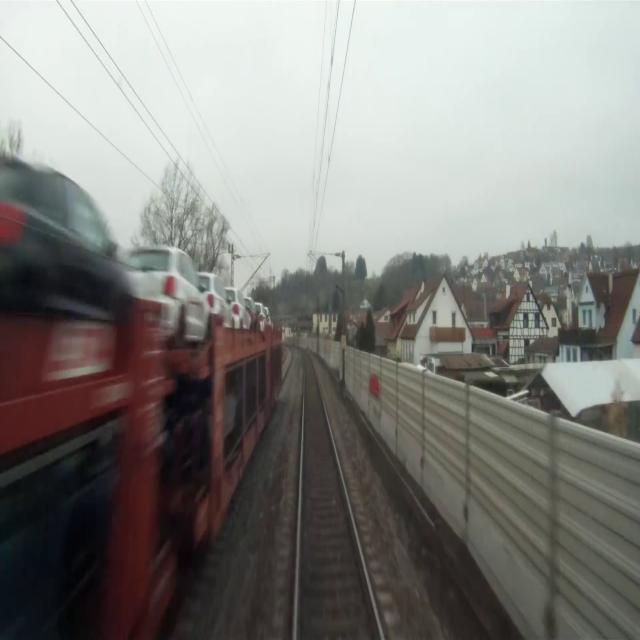rail-track: (298, 353, 380, 639), (282, 350, 290, 375)
